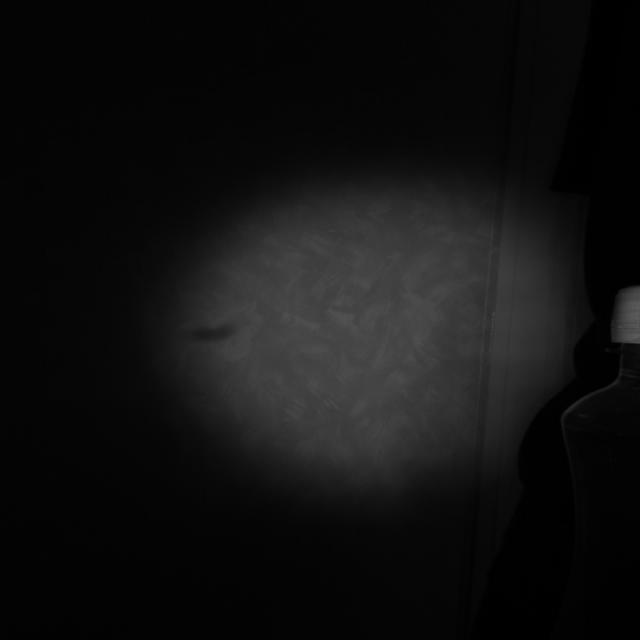Good: (613, 288, 640, 344)
